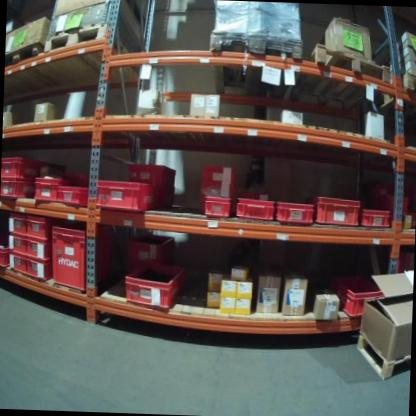pallet: (206, 32, 301, 106), (291, 43, 390, 111), (46, 24, 142, 87), (355, 332, 412, 382), (384, 72, 416, 121)
small_load_carrier: (51, 228, 115, 295), (122, 257, 190, 310), (333, 273, 391, 321), (94, 183, 178, 214), (126, 231, 179, 269), (311, 197, 361, 228), (3, 157, 66, 181), (31, 172, 72, 204), (125, 162, 180, 184), (275, 200, 317, 227), (236, 196, 278, 222), (203, 196, 233, 226), (56, 186, 93, 208), (359, 206, 394, 228), (25, 215, 57, 239), (26, 239, 57, 262), (1, 179, 32, 200), (26, 260, 54, 283), (5, 251, 27, 274), (7, 215, 27, 236), (5, 235, 27, 253), (0, 246, 5, 268)
